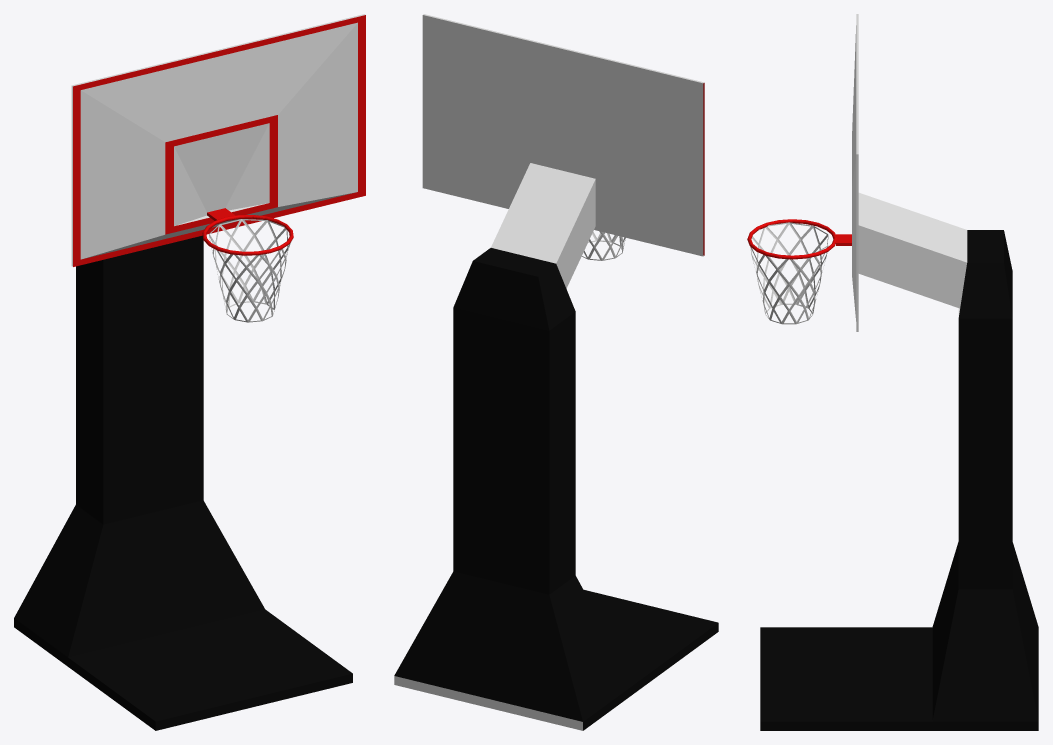
File: Hoop.fbx
3 views of the same model, side by side, from view 1: azimuth 30°, elevation 25°; view 2: azimuth 150°, elevation 25°; view 3: azimuth 270°, elevation 25° (orthographic). The views are drawn at different scales.
Parts seen in each view (by area): view 1: Basketball Base, Net, Ring; view 2: Basketball Base, Net; view 3: Basketball Base, Net, Ring.
Boxes of the visible parts, x1,y1,x2,y2 form: Basketball Base: (14,14,365,730); Net: (209,219,290,322); Ring: (202,215,293,255); Basketball Base: (394,14,718,730); Net: (581,231,625,260); Basketball Base: (760,14,1038,730); Net: (750,222,828,324); Ring: (747,219,836,259).
Bounding box in the file's own units: 339 × 683 × 297.
